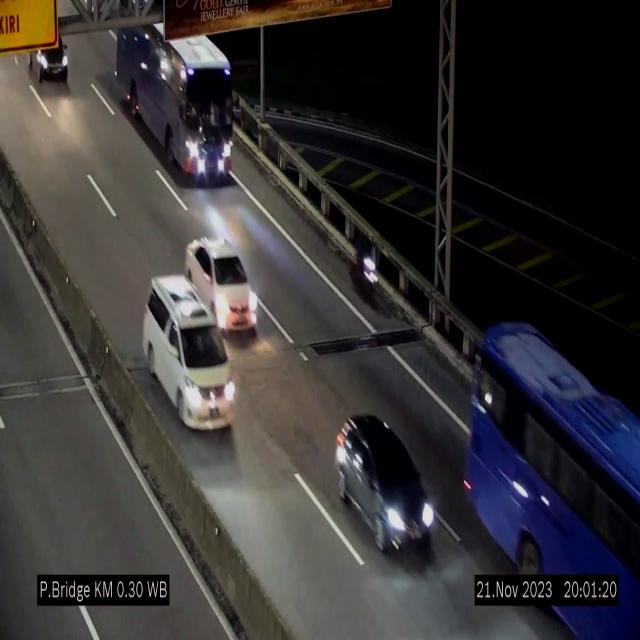Bus: (468, 304, 640, 640), (110, 27, 237, 186)
Car: (336, 414, 436, 554), (143, 276, 235, 428), (184, 237, 258, 333), (22, 28, 74, 89)
Motorcycle: (349, 222, 382, 311)
